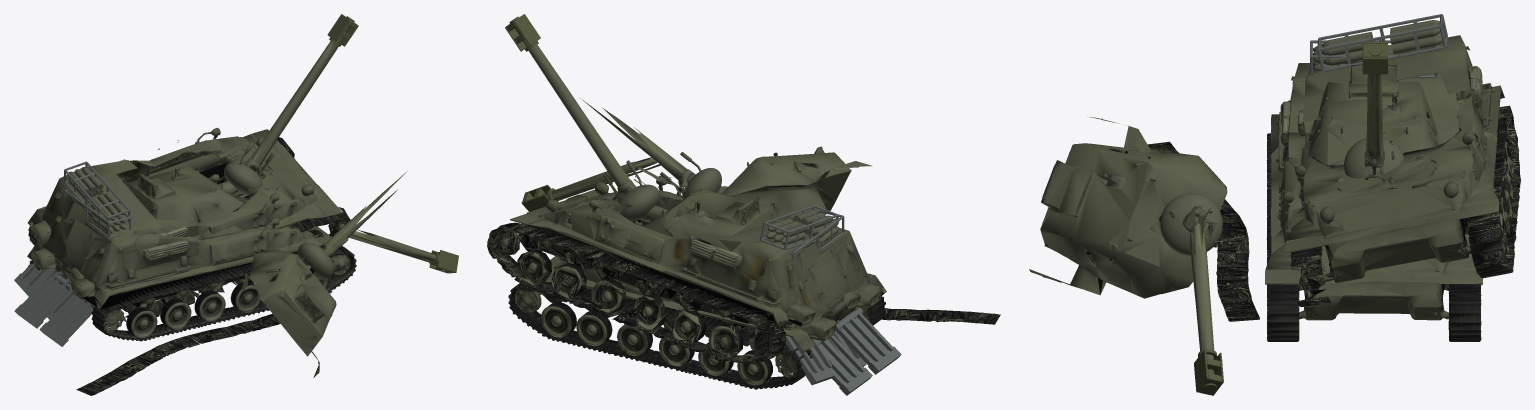
File: spg_cluster.glb
The picture shows the model from 3 angles, left to right: view 1: azimuth 30°, elevation 25°; view 2: azimuth 150°, elevation 25°; view 3: azimuth 270°, elevation 25°; orthographic projection. The views are drawn at different scales.
Visible parts, largest first — view 1: hull_hull, WRECK_hull_hull, hull_rubber, WRECK_turret_hull, turret_hull, WRECK_hull_rubber, turret_metal, WRECK_turret_metal; view 2: WRECK_hull_hull, WRECK_hull_rubber, hull_hull, hull_rubber, WRECK_turret_hull, turret_hull, turret_metal, WRECK_turret_metal; view 3: WRECK_hull_hull, WRECK_turret_hull, hull_hull, WRECK_hull_rubber, turret_hull, WRECK_turret_metal, hull_rubber, turret_metal.
Boxes of the visible parts, x1=… form: hull_hull: x1=14, y1=174, x2=331, y2=346; WRECK_hull_hull: x1=14, y1=127, x2=342, y2=319; hull_rubber: x1=27, y1=246, x2=356, y2=341; WRECK_turret_hull: x1=241, y1=249, x2=336, y2=377; turret_hull: x1=126, y1=167, x2=249, y2=245; WRECK_hull_rubber: x1=27, y1=137, x2=350, y2=395; turret_metal: x1=224, y1=14, x2=358, y2=194; WRECK_turret_metal: x1=297, y1=171, x2=458, y2=279; WRECK_hull_hull: x1=510, y1=166, x2=866, y2=385; WRECK_hull_rubber: x1=487, y1=222, x2=1000, y2=363; hull_hull: x1=542, y1=205, x2=901, y2=395; hull_rubber: x1=508, y1=282, x2=886, y2=389; WRECK_turret_hull: x1=718, y1=146, x2=872, y2=217; turret_hull: x1=633, y1=189, x2=778, y2=251; turret_metal: x1=505, y1=14, x2=659, y2=221; WRECK_turret_metal: x1=521, y1=98, x2=721, y2=211; WRECK_hull_hull: x1=1285, y1=14, x2=1503, y2=283; WRECK_turret_hull: x1=1029, y1=116, x2=1227, y2=298; hull_hull: x1=1265, y1=40, x2=1482, y2=320; WRECK_hull_rubber: x1=1147, y1=93, x2=1520, y2=321; turret_hull: x1=1288, y1=64, x2=1459, y2=181; WRECK_turret_metal: x1=1160, y1=193, x2=1225, y2=395; hull_rubber: x1=1266, y1=125, x2=1481, y2=341; turret_metal: x1=1344, y1=42, x2=1404, y2=179.
Size of the model in its own units: 10.21 by 5.88 by 7.68.
1 material, 1 textured.
